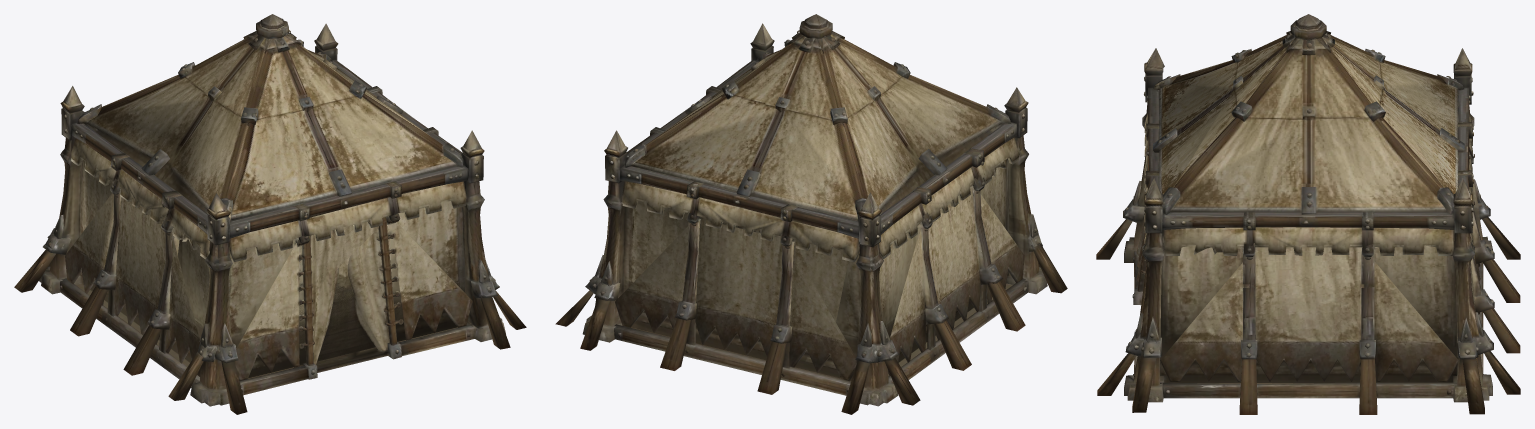
File: tent.glb
The picture shows the model from 3 angles, left to right: view 1: azimuth 30°, elevation 25°; view 2: azimuth 150°, elevation 25°; view 3: azimuth 270°, elevation 25°; orthographic projection. The views are drawn at different scales.
Visible parts, largest first — view 1: tripo_node_f6a2ab47-4936-402b-953c-9a981997ec69; view 2: tripo_node_f6a2ab47-4936-402b-953c-9a981997ec69; view 3: tripo_node_f6a2ab47-4936-402b-953c-9a981997ec69.
Boxes of the visible parts, <box> form: tripo_node_f6a2ab47-4936-402b-953c-9a981997ec69: <box>14,14,526,414</box>; tripo_node_f6a2ab47-4936-402b-953c-9a981997ec69: <box>555,14,1067,414</box>; tripo_node_f6a2ab47-4936-402b-953c-9a981997ec69: <box>1096,14,1520,414</box>.
Bounding box in the file's own units: 0.9995 × 0.7915 × 0.98.
Materials: 1 (1 with a texture image).
